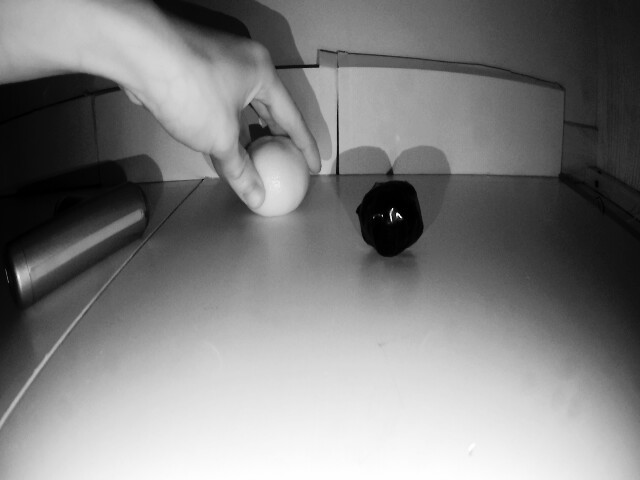black: (349, 171, 419, 256)
